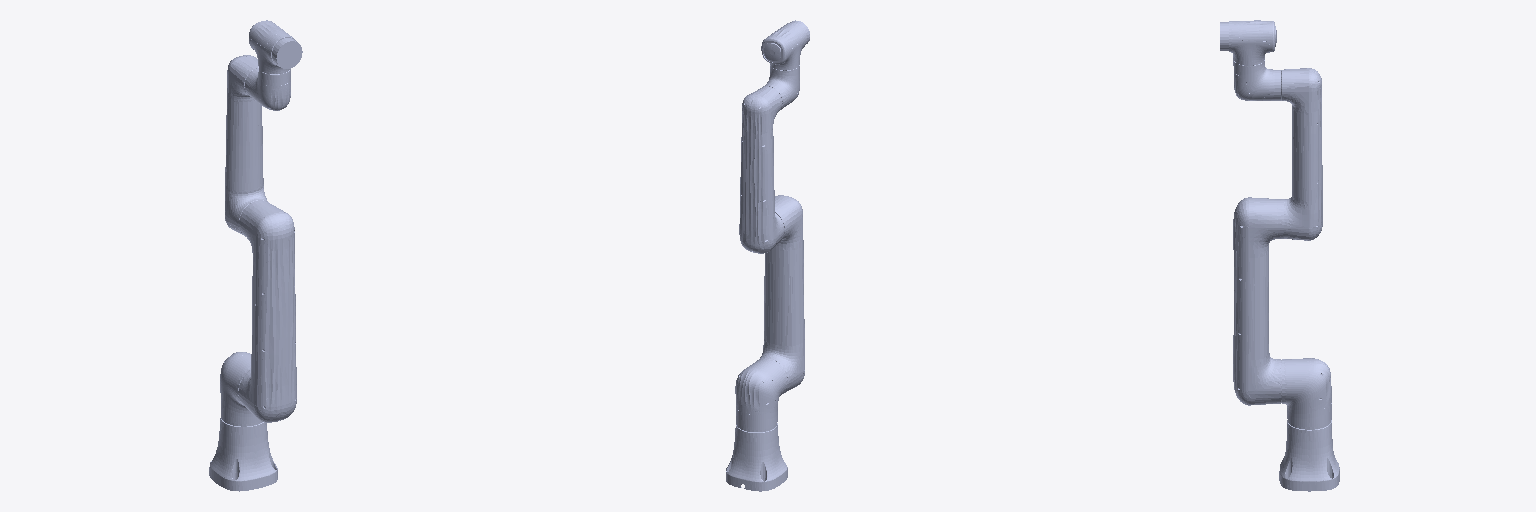
URDF robot description (nova5_robot):
<?xml version="1.0" encoding="utf-8"?>
<!-- This URDF was automatically created by SolidWorks to URDF Exporter! Originally created by [author] ([email redacted]) 
     Commit Version: 1.6.0-1-g15f4949  Build Version: 1.6.7594.29634
     For more information, please see http://wiki.ros.org/sw_urdf_exporter -->
<robot
  name="nova5_robot">
  <link name="dummy_link"/>
  <link
    name="base_link">
    <inertial>
      <origin
        xyz="6.56698714338847E-06 2.73052159273858E-06 0.0698223124889706"
        rpy="0 0 0" />
      <mass
        value="1.3106443915978" />
      <inertia
        ixx="0.00308109148952278"
        ixy="-4.0369958400766E-08"
        ixz="5.2607663395944E-07"
        iyy="0.00309758743296662"
        iyz="-6.37484696538659E-09"
        izz="0.00232835367593981" />
    </inertial>
    <visual>
      <origin
        xyz="0 0 0"
        rpy="0 0 0" />
      <geometry>
        <mesh
          filename="package://dobot_description/meshes/nova5/base_link.STL" />
      </geometry>
      <material
        name="">
        <color
          rgba="0.792156862745098 0.819607843137255 0.933333333333333 1" />
      </material>
    </visual>
    <collision>
      <origin
        xyz="0 0 0"
        rpy="0 0 0" />
      <geometry>
        <mesh
          filename="package://dobot_description/meshes/nova5/base_link.STL" />
      </geometry>
    </collision>
  </link>
  <joint
    name="dummy_joint"
    type="fixed">
    <parent
      link="dummy_link" />
    <child
      link="base_link" />
  </joint>
  <link
    name="Link1">
    <inertial>
      <origin
        xyz="9.18642704220017E-06 -0.021770784235076 -0.0261833991373472"
        rpy="0 0 0" />
      <mass
        value="1.08090940330212" />
      <inertia
        ixx="0.00265963193119309"
        ixy="1.85196348994647E-07"
        ixz="-3.27720040926316E-07"
        iyy="0.00247342331575097"
        iyz="0.000661331129337329"
        izz="0.00164737186015792" />
    </inertial>
    <visual>
      <origin
        xyz="0 0 0"
        rpy="0 0 0" />
      <geometry>
        <mesh
          filename="package://dobot_description/meshes/nova5/Link1.STL" />
      </geometry>
      <material
        name="">
        <color
          rgba="0.792156862745098 0.819607843137255 0.933333333333333 1" />
      </material>
    </visual>
    <collision>
      <origin
        xyz="0 0 0"
        rpy="0 0 0" />
      <geometry>
        <mesh
          filename="package://dobot_description/meshes/nova5/Link1.STL" />
      </geometry>
    </collision>
  </link>
  <joint
    name="joint1"
    type="revolute">
    <origin
      xyz="0 0 0.240000000000178"
      rpy="0 0 0" />
    <parent
      link="base_link" />
    <child
      link="Link1" />
    <axis
      xyz="0 0 0.999999999999855" />
    <limit
      lower="-6.28"
      upper="6.28"
      effort="0"
      velocity="0" />
  </joint>
  <link
    name="Link2">
    <inertial>
      <origin
        xyz="-0.19933810729628 -0.00696463483971123 0.109208661556353"
        rpy="0 0 0" />
      <mass
        value="2.54585370113969" />
      <inertia
        ixx="0.00285193319464959"
        ixy="-0.00212784400881843"
        ixz="-0.00109906472415148"
        iyy="0.0636767872390402"
        iyz="-3.83872488712299E-05"
        izz="0.0643005121111712" />
    </inertial>
    <visual>
      <origin
        xyz="0 0 0"
        rpy="0 0 0" />
      <geometry>
        <mesh
          filename="package://dobot_description/meshes/nova5/Link2.STL" />
      </geometry>
      <material
        name="">
        <color
          rgba="0.792156862745098 0.819607843137255 0.933333333333333 1" />
      </material>
    </visual>
    <collision>
      <origin
        xyz="0 0 0"
        rpy="0 0 0" />
      <geometry>
        <mesh
          filename="package://dobot_description/meshes/nova5/Link2.STL" />
      </geometry>
    </collision>
  </link>
  <joint
    name="joint2"
    type="revolute">
    <origin
      xyz="0 0 0"
      rpy="-1.57080287682252 1.53586622836832 3.14159265358979" />
    <parent
      link="Link1" />
    <child
      link="Link2" />
    <axis
      xyz="0 0 1" />
    <limit
      lower="-3.14"
      upper="3.14"
      effort="0"
      velocity="0" />
  </joint>
  <link
    name="Link3">
    <inertial>
      <origin
        xyz="-0.152357289724291 -0.0053571688729055 0.0198991511385547"
        rpy="0 0 0" />
      <mass
        value="1.40745649848125" />
      <inertia
        ixx="0.00100801309674517"
        ixy="-0.00077546601599374"
        ixz="4.43267247578911E-05"
        iyy="0.0231741793950995"
        iyz="1.31338010910521E-06"
        izz="0.02359962285525" />
    </inertial>
    <visual>
      <origin
        xyz="0 0 0"
        rpy="0 0 0" />
      <geometry>
        <mesh
          filename="package://dobot_description/meshes/nova5/Link3.STL" />
      </geometry>
      <material
        name="">
        <color
          rgba="0.792156862745098 0.819607843137255 0.933333333333333 1" />
      </material>
    </visual>
    <collision>
      <origin
        xyz="0 0 0"
        rpy="0 0 0" />
      <geometry>
        <mesh
          filename="package://dobot_description/meshes/nova5/Link3.STL" />
      </geometry>
    </collision>
  </link>
  <joint
    name="joint3"
    type="revolute">
    <origin
      xyz="-0.399756009268664 -0.0139690033141953 0"
      rpy="0 0 0" />
    <parent
      link="Link2" />
    <child
      link="Link3" />
    <axis
      xyz="0 0 1" />
    <limit
      lower="-2.79"
      upper="2.79"
      effort="0"
      velocity="0" />
  </joint>
  <link
    name="Link4">
    <inertial>
      <origin
        xyz="-6.37112093033953E-06 -0.0227590499933018 -0.0202381689250349"
        rpy="0 0 0" />
      <mass
        value="0.439666284541787" />
      <inertia
        ixx="0.000634738696193051"
        ixy="1.33529119545257E-08"
        ixz="2.91412587537874E-08"
        iyy="0.00045014395177395"
        iyz="0.000210919680187578"
        izz="0.000480311391216564" />
    </inertial>
    <visual>
      <origin
        xyz="0 0 0"
        rpy="0 0 0" />
      <geometry>
        <mesh
          filename="package://dobot_description/meshes/nova5/Link4.STL" />
      </geometry>
      <material
        name="">
        <color
          rgba="0.792156862745098 0.819607843137255 0.933333333333333 1" />
      </material>
    </visual>
    <collision>
      <origin
        xyz="0 0 0"
        rpy="0 0 0" />
      <geometry>
        <mesh
          filename="package://dobot_description/meshes/nova5/Link4.STL" />
      </geometry>
    </collision>
  </link>
  <joint
    name="joint4"
    type="revolute">
    <origin
      xyz="-0.329798707647103 -0.0115244277211674 0.134999532858734"
      rpy="0 0 -1.53586622840712" />
    <parent
      link="Link3" />
    <child
      link="Link4" />
    <axis
      xyz="0 0 1" />
    <limit
      lower="-6.28"
      upper="6.28"
      effort="0"
      velocity="0" />
  </joint>
  <link
    name="Link5">
    <inertial>
      <origin
        xyz="-1.27925890990664E-06 0.00190911597991161 -0.0076111865696753"
        rpy="0 0 0" />
      <mass
        value="0.574835130260071" />
      <inertia
        ixx="0.000663176880523558"
        ixy="1.30179448329138E-08"
        ixz="1.22670358756949E-08"
        iyy="0.000397520749670404"
        iyz="-0.00012026389265228"
        izz="0.000641156648195347" />
    </inertial>
    <visual>
      <origin
        xyz="0 0 0"
        rpy="0 0 0" />
      <geometry>
        <mesh
          filename="package://dobot_description/meshes/nova5/Link5.STL" />
      </geometry>
      <material
        name="">
        <color
          rgba="0.792156862745098 0.819607843137255 0.933333333333333 1" />
      </material>
    </visual>
    <collision>
      <origin
        xyz="0 0 0"
        rpy="0 0 0" />
      <geometry>
        <mesh
          filename="package://dobot_description/meshes/nova5/Link5.STL" />
      </geometry>
    </collision>
  </link>
  <joint
    name="joint5"
    type="revolute">
    <origin
      xyz="0 -0.12 0"
      rpy="1.5708 0 0" />
    <parent
      link="Link4" />
    <child
      link="Link5" />
    <axis
      xyz="0 0 1" />
    <limit
      lower="-6.28"
      upper="6.28"
      effort="0"
      velocity="0" />
  </joint>
  <link
    name="Link6">
    <inertial>
      <origin
        xyz="1.5476173180832E-06 0.000151598525687691 -0.0194592287865595"
        rpy="0 0 0" />
      <mass
        value="0.129679940383395" />
      <inertia
        ixx="5.02803124561327E-05"
        ixy="6.27222112028976E-11"
        ixz="3.5128727780266E-12"
        iyy="5.05400746124736E-05"
        iyz="5.0343678900728E-08"
        izz="7.7863015024978E-05" />
    </inertial>
    <visual>
      <origin
        xyz="0 0 0"
        rpy="0 0 0" />
      <geometry>
        <mesh
          filename="package://dobot_description/meshes/nova5/Link6.STL" />
      </geometry>
      <material
        name="">
        <color
          rgba="0.752941176470588 0.752941176470588 0.752941176470588 1" />
      </material>
    </visual>
    <collision>
      <origin
        xyz="0 0 0"
        rpy="0 0 0" />
      <geometry>
        <mesh
          filename="package://dobot_description/meshes/nova5/Link6.STL" />
      </geometry>
    </collision>
  </link>
  <joint
    name="joint6"
    type="revolute">
    <origin
      xyz="0 0.088328 0"
      rpy="-1.5708 0 0" />
    <parent
      link="Link5" />
    <child
      link="Link6" />
    <axis
      xyz="0 0 1" />
    <limit
      lower="-6.28"
      upper="6.28"
      effort="0"
      velocity="0" />
  </joint>
</robot>

--- Render facts (derived) ---
Views: 3 orthographic renders of the robot side by side, from view 1: azimuth 30°, elevation 25°; view 2: azimuth 150°, elevation 25°; view 3: azimuth 270°, elevation 25°.
Model nova5_robot with 8 links and 7 joints (6 revolute, 1 fixed), rooted at dummy_link, posed all joints at 0.
Links seen in each view (by area): view 1: Link2, Link3, base_link, Link5, Link1, Link4; view 2: Link2, Link3, Link1, base_link, Link5, Link4; view 3: Link2, Link3, base_link, Link1, Link5, Link4.
Boxes of the visible links, x1,y1,x2,y2 form: Link2: (238, 200, 296, 422); Link3: (225, 55, 268, 234); base_link: (209, 418, 277, 491); Link5: (249, 20, 302, 73); Link1: (220, 352, 261, 426); Link4: (244, 68, 290, 110); Link2: (757, 195, 804, 393); Link3: (739, 86, 784, 253); Link1: (735, 358, 787, 431); base_link: (726, 423, 787, 491); Link5: (761, 20, 809, 70); Link4: (763, 65, 799, 109); Link2: (1233, 197, 1283, 405); Link3: (1281, 68, 1322, 240); base_link: (1279, 420, 1339, 491); Link1: (1281, 358, 1331, 429); Link5: (1220, 20, 1276, 65); Link4: (1233, 59, 1280, 100).
Bounding box of the posed robot: 0.135 × 0.2669 × 1.13 m (x, y, z).
6 mesh visuals loaded from 7 distinct referenced files (6 binary STL); not drawn: 1 (reference not matched to a file when rendering).